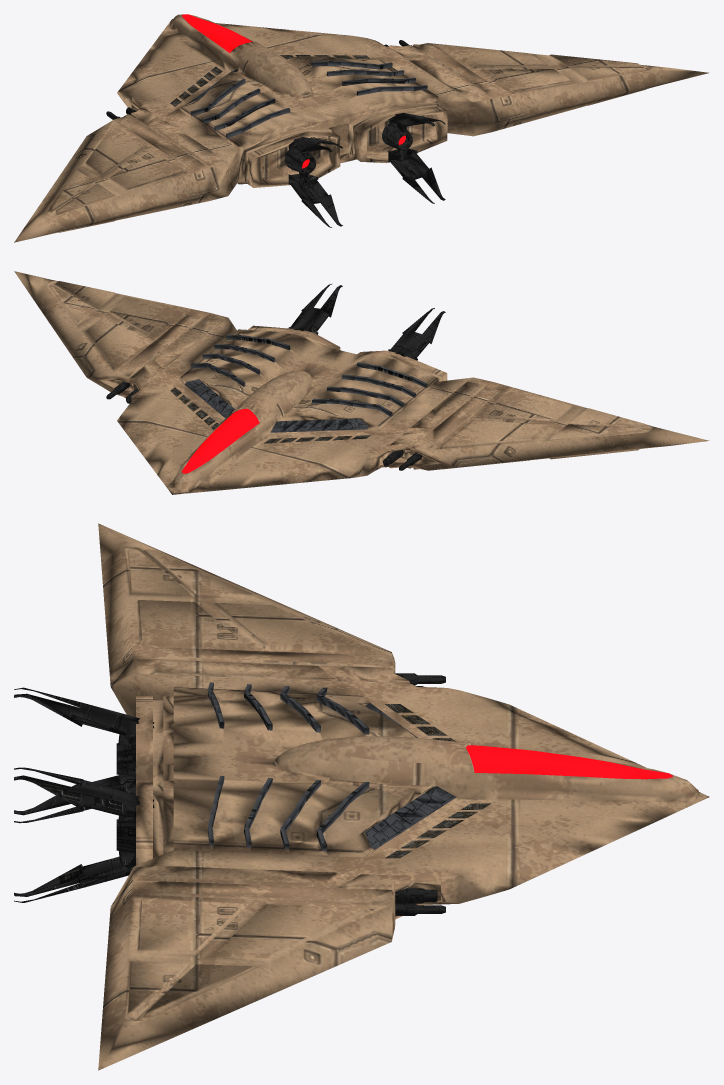
Rendered from raider-delta.glb.
3 views of the same model, one above another, from view 1: azimuth 30°, elevation 25°; view 2: azimuth 150°, elevation 25°; view 3: azimuth 270°, elevation 25° (orthographic). The views are drawn at different scales.
Parts seen in each view (by area): view 1: raiderDelta; view 2: raiderDelta; view 3: raiderDelta.
Boxes of the visible parts, x1,y1,x2,y2 form: raiderDelta: [14, 14, 708, 242]; raiderDelta: [14, 271, 709, 494]; raiderDelta: [14, 523, 709, 1070].
Bounding box in the file's own units: 17 × 1.87 × 9.13.
Materials: 5 (4 with a texture image).
